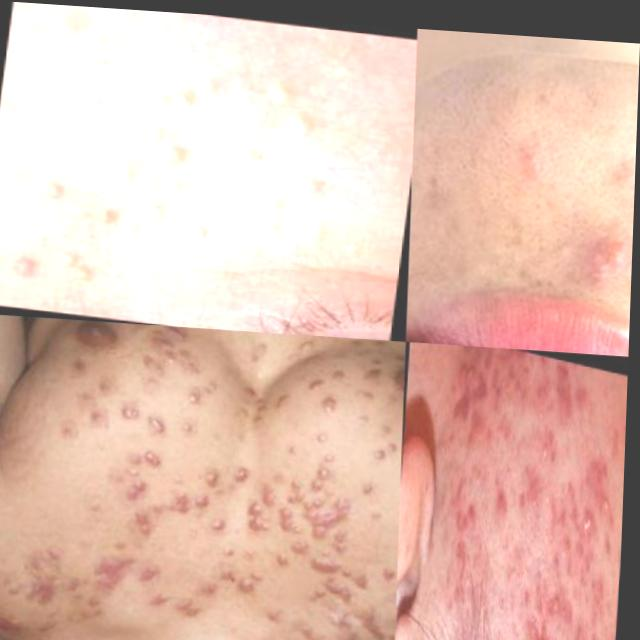6: (23, 526, 145, 624), (278, 476, 366, 548), (134, 479, 198, 539), (211, 531, 302, 569), (194, 457, 239, 527), (293, 611, 376, 640), (235, 378, 286, 425), (149, 579, 207, 618), (302, 368, 349, 416), (123, 440, 173, 484), (249, 473, 281, 540), (223, 558, 272, 597), (120, 397, 171, 433), (312, 573, 361, 606), (146, 322, 196, 352), (135, 550, 168, 585), (376, 542, 402, 584), (307, 548, 349, 573), (373, 431, 404, 457), (181, 380, 209, 407), (180, 413, 204, 439)
7: (0, 238, 120, 296), (122, 60, 237, 115), (132, 110, 209, 170), (263, 79, 321, 139), (30, 170, 80, 213), (289, 163, 333, 204), (87, 197, 131, 228), (538, 385, 551, 416)
8: (597, 193, 635, 279), (460, 342, 481, 387)
9: (541, 418, 558, 459)
blackheads: (455, 523, 477, 576), (582, 495, 599, 535), (539, 611, 559, 640), (559, 629, 579, 640), (517, 633, 537, 640)
dark spot: (473, 446, 490, 494)
whiteheads: (604, 471, 617, 508), (441, 416, 454, 453)
